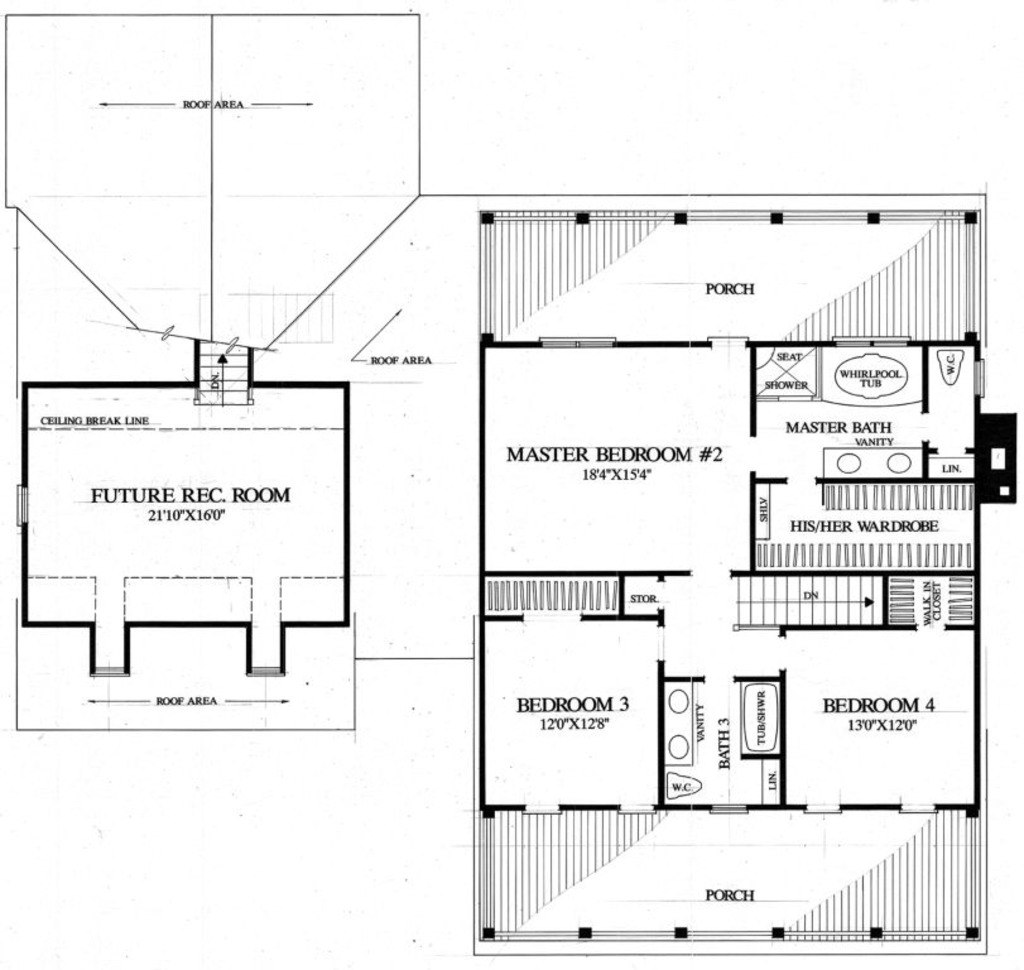large_sink: (928, 345, 964, 390), (662, 771, 708, 805)
small_sink: (819, 441, 925, 484), (660, 679, 699, 767)
stairs: (728, 571, 887, 635), (192, 334, 257, 414)
tub: (822, 345, 923, 409), (736, 678, 784, 759)
window: (537, 332, 621, 355), (11, 479, 30, 529), (521, 798, 564, 819), (704, 801, 748, 818), (896, 799, 943, 814), (801, 799, 844, 813), (614, 802, 655, 815)
